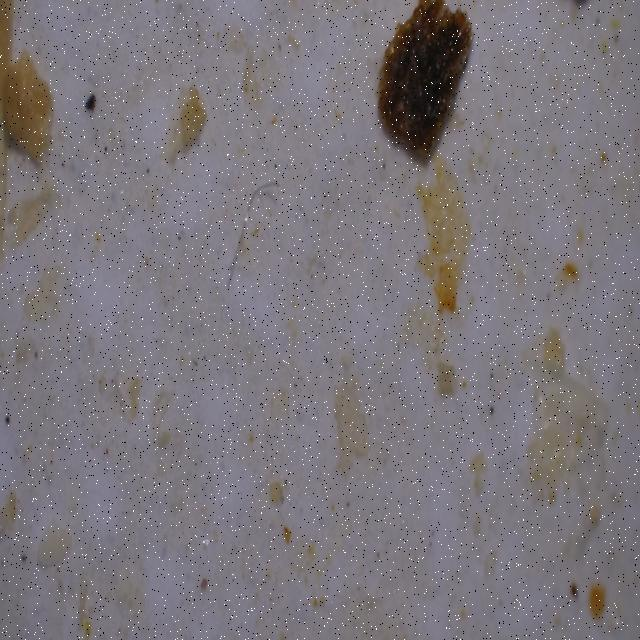fragment: (369, 0, 480, 174)
